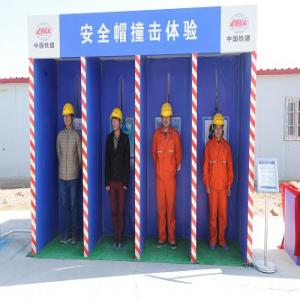yellow: (212, 113, 226, 142), (161, 102, 174, 131), (112, 108, 125, 135), (63, 103, 76, 130)
